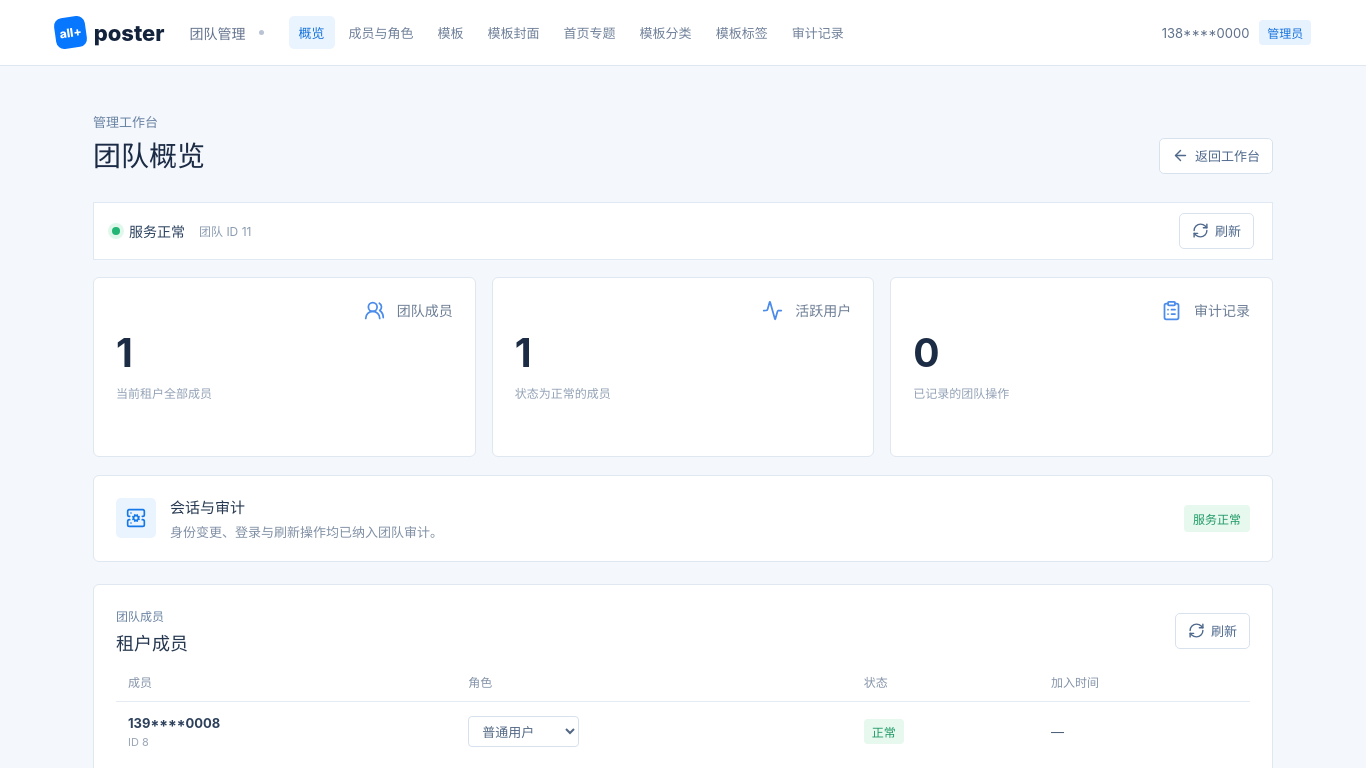
Test: AdminShell › keeps the previous role when a role command fails
The image size is (1366, 768).
Select "运营" in the dropdown named "修改 139****0008 的角色" at point(524, 732), box 468,716 -> 579,747
(page scrolled)
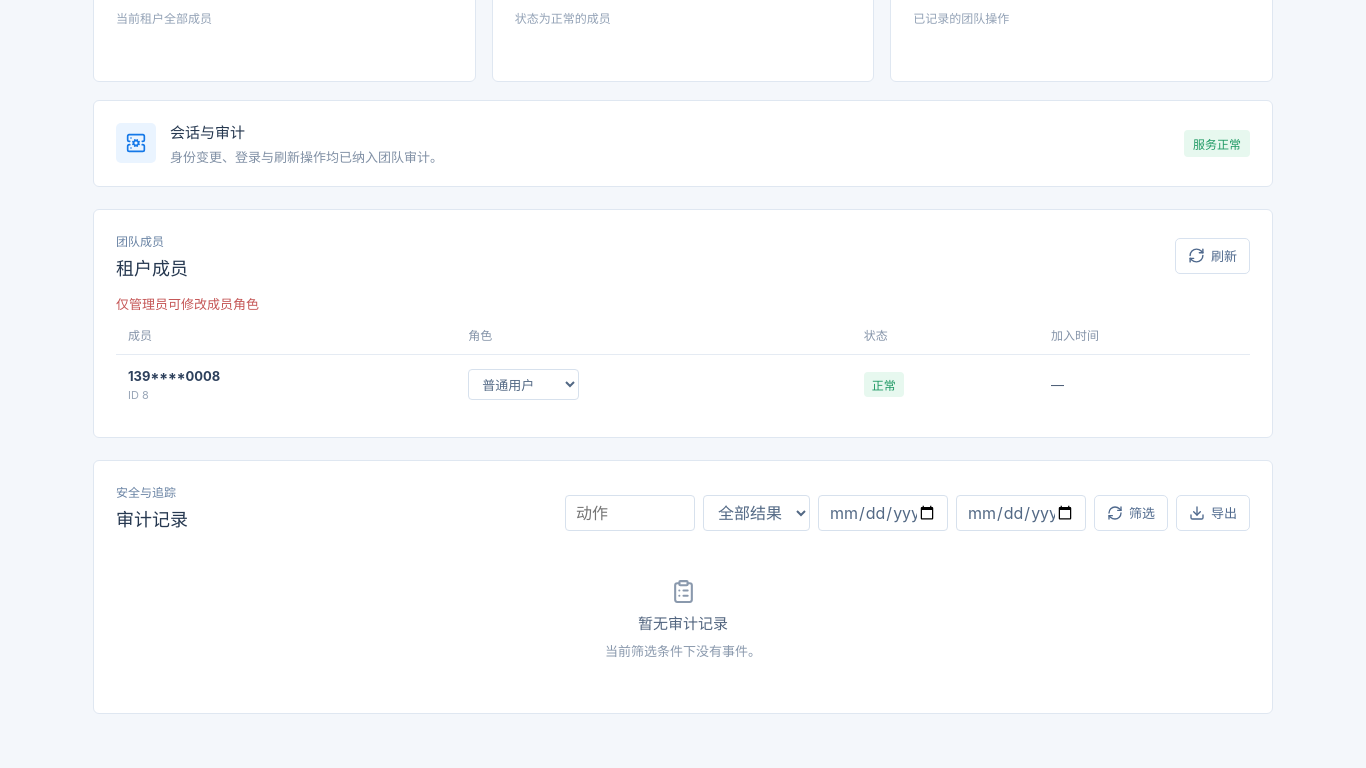
Check: the message reads "仅管理员可修改成员角色", box 116,296 -> 259,312
